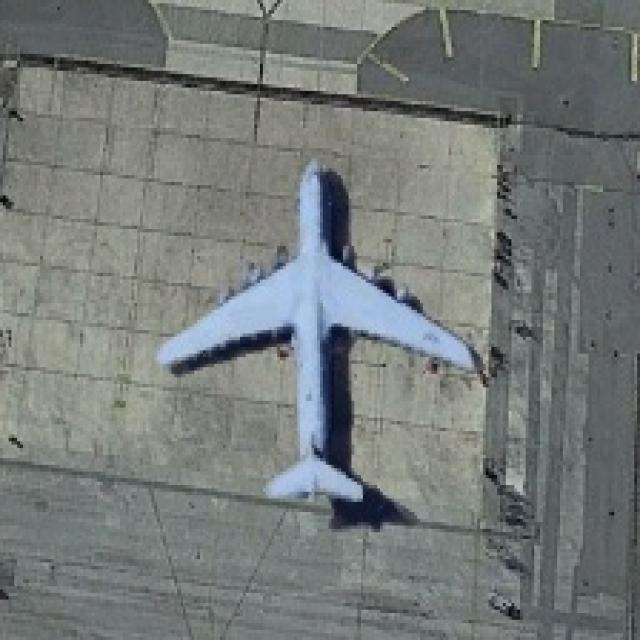C-5_TopDown: (149, 156, 486, 527)
